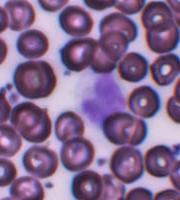M: (79, 74, 128, 127)
